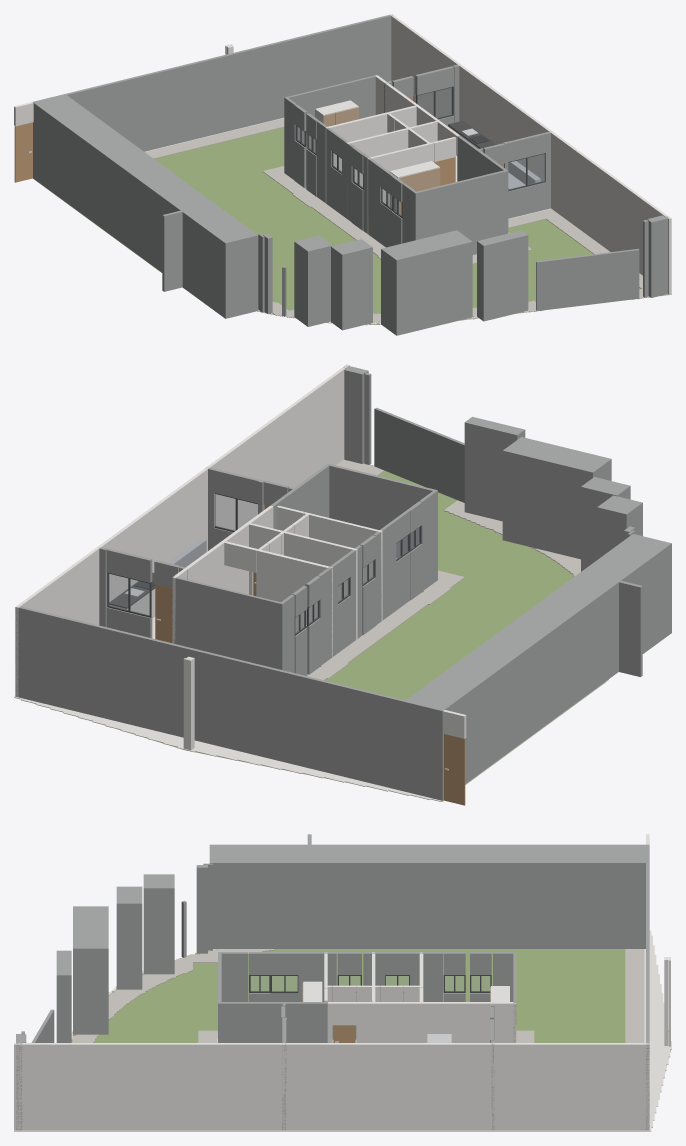
The model's file is casa.glb.
3 renders of one model, top to bottom at view 1: azimuth 30°, elevation 25°; view 2: azimuth 150°, elevation 25°; view 3: azimuth 270°, elevation 25°, orthographic. The views are drawn at different scales.
Parts seen in each view (by area): view 1: fachada, parede, grama, concreto, vidro, esquadria, madeira, door4_swing__porta, armario, piso, tecido; view 2: fachada, parede, grama, concreto, piso, vidro, esquadria, door4_swing__porta, door0_swing__porta, tecido; view 3: fachada, parede, grama, concreto, piso, vidro, esquadria, armario.
Boxes of the visible parts, x1,y1,x2,y2 form: fachada: (32,14,668,335); parede: (14,14,671,294); grama: (33,127,668,324); concreto: (145,118,645,323); vidro: (297,88,544,215); esquadria: (295,86,545,217); madeira: (323,107,440,215); door4_swing__porta: (14,122,32,182); armario: (315,100,479,211); piso: (33,118,671,325); tecido: (508,161,540,189); fachada: (15,365,671,800); parede: (15,364,466,750); grama: (91,471,605,801); concreto: (307,459,580,680); piso: (14,463,608,801); vidro: (109,494,419,633); esquadria: (107,493,421,635); door4_swing__porta: (444,734,465,805); door0_swing__porta: (155,584,172,642); tecido: (167,538,400,567); fachada: (16,834,649,1130); parede: (14,834,670,1130); grama: (71,949,670,1078); concreto: (71,949,644,1042); piso: (14,930,671,1131); vidro: (251,976,489,991); esquadria: (249,975,491,993); armario: (303,981,509,1001).
Bounding box in the file's own units: 14.68 × 2.83 × 19.41.
